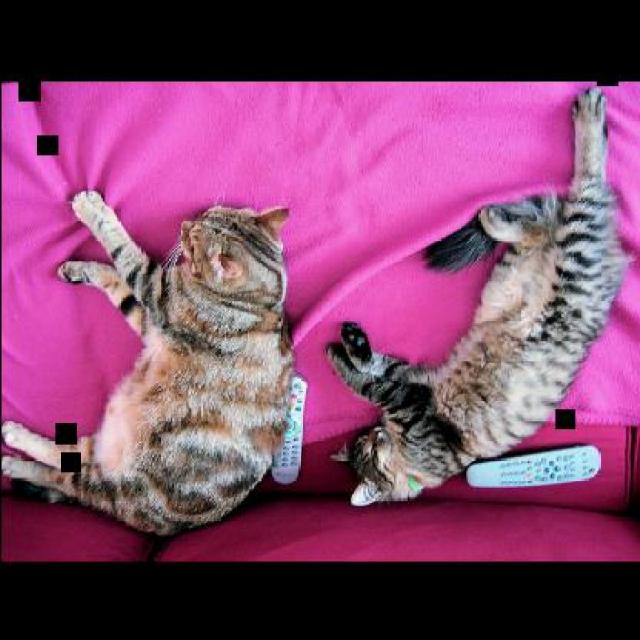unauthorized: (323, 85, 631, 508), (0, 188, 295, 537)
